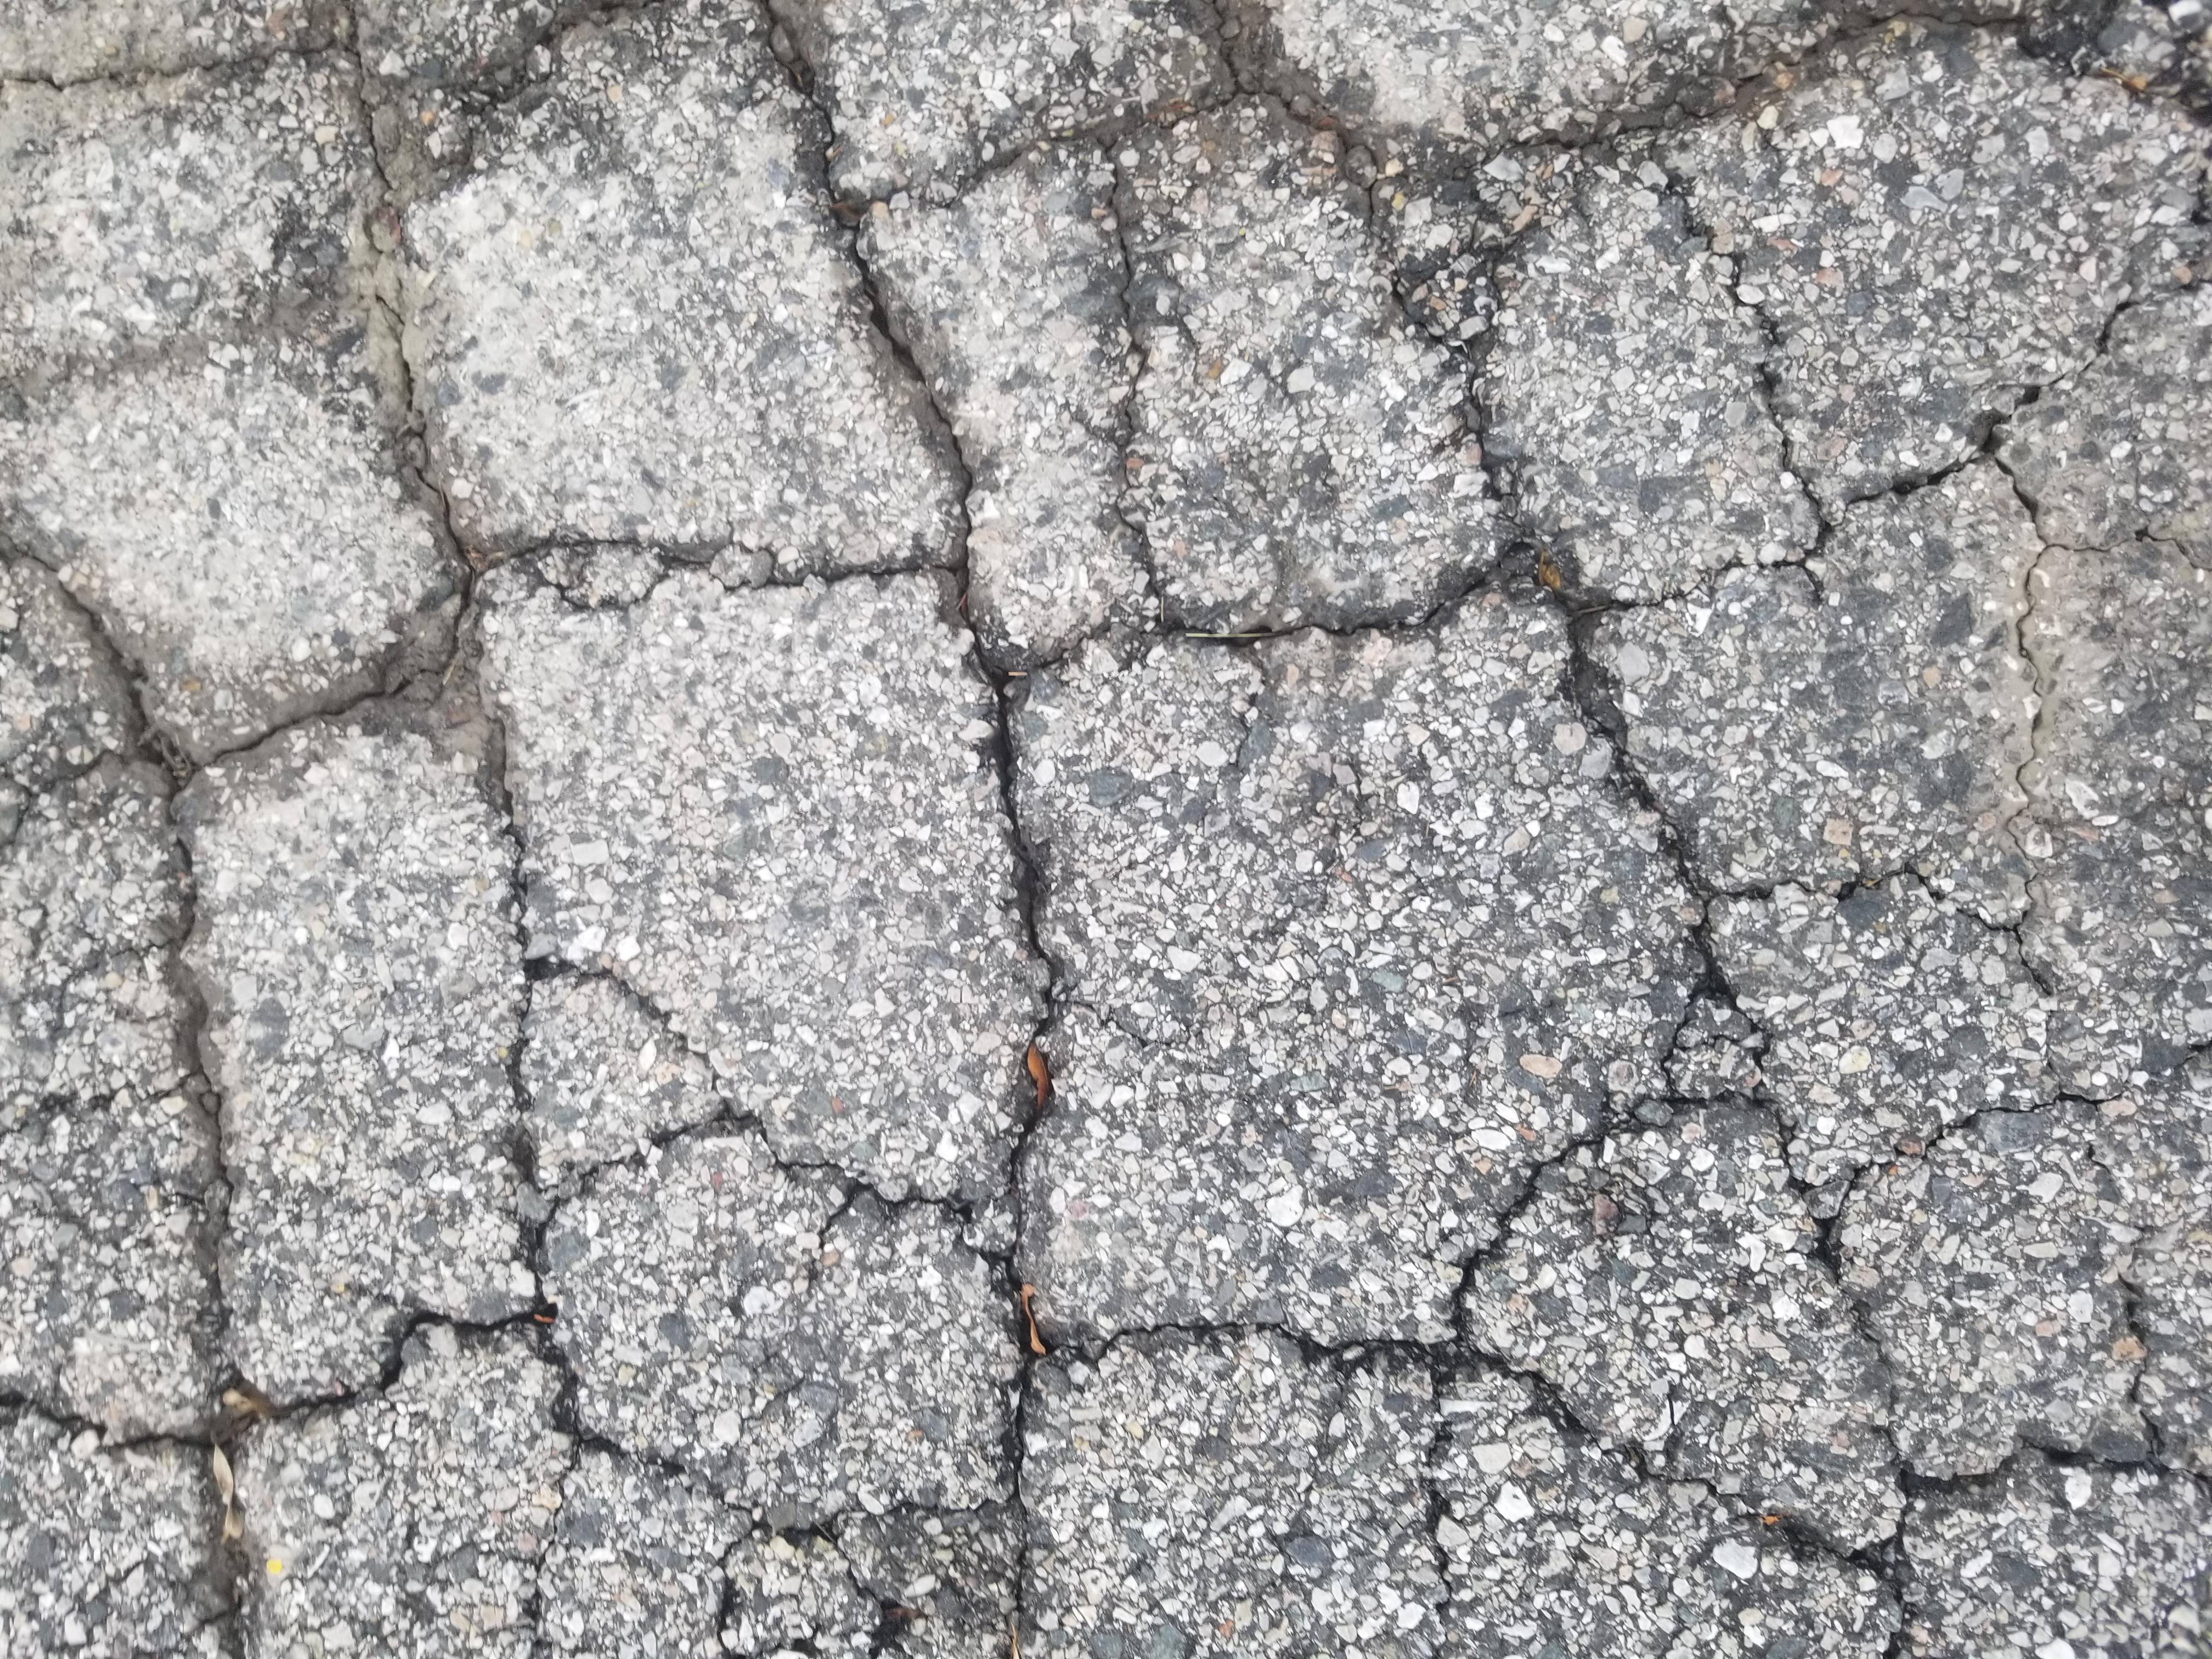alligator-crack: (120, 52, 2212, 1628), (1010, 207, 2094, 1466), (368, 153, 1233, 1558)
